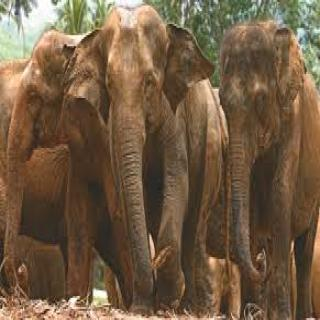Elephant: (7, 3, 234, 320), (62, 0, 232, 320), (215, 15, 320, 320)
